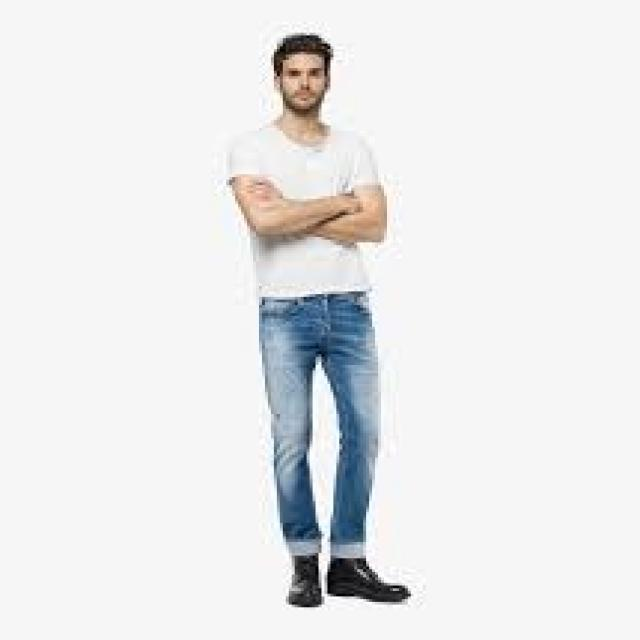adult: (211, 27, 435, 616)
